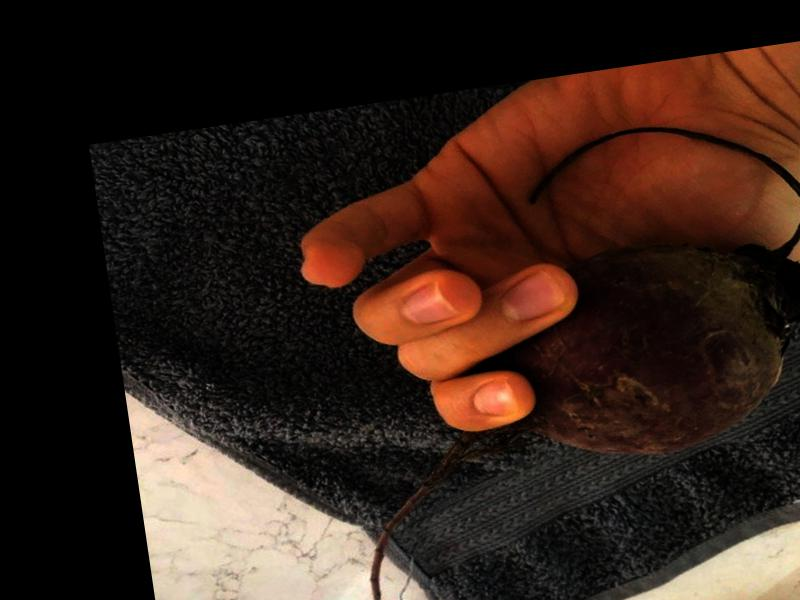Beet: (312, 105, 800, 600)
